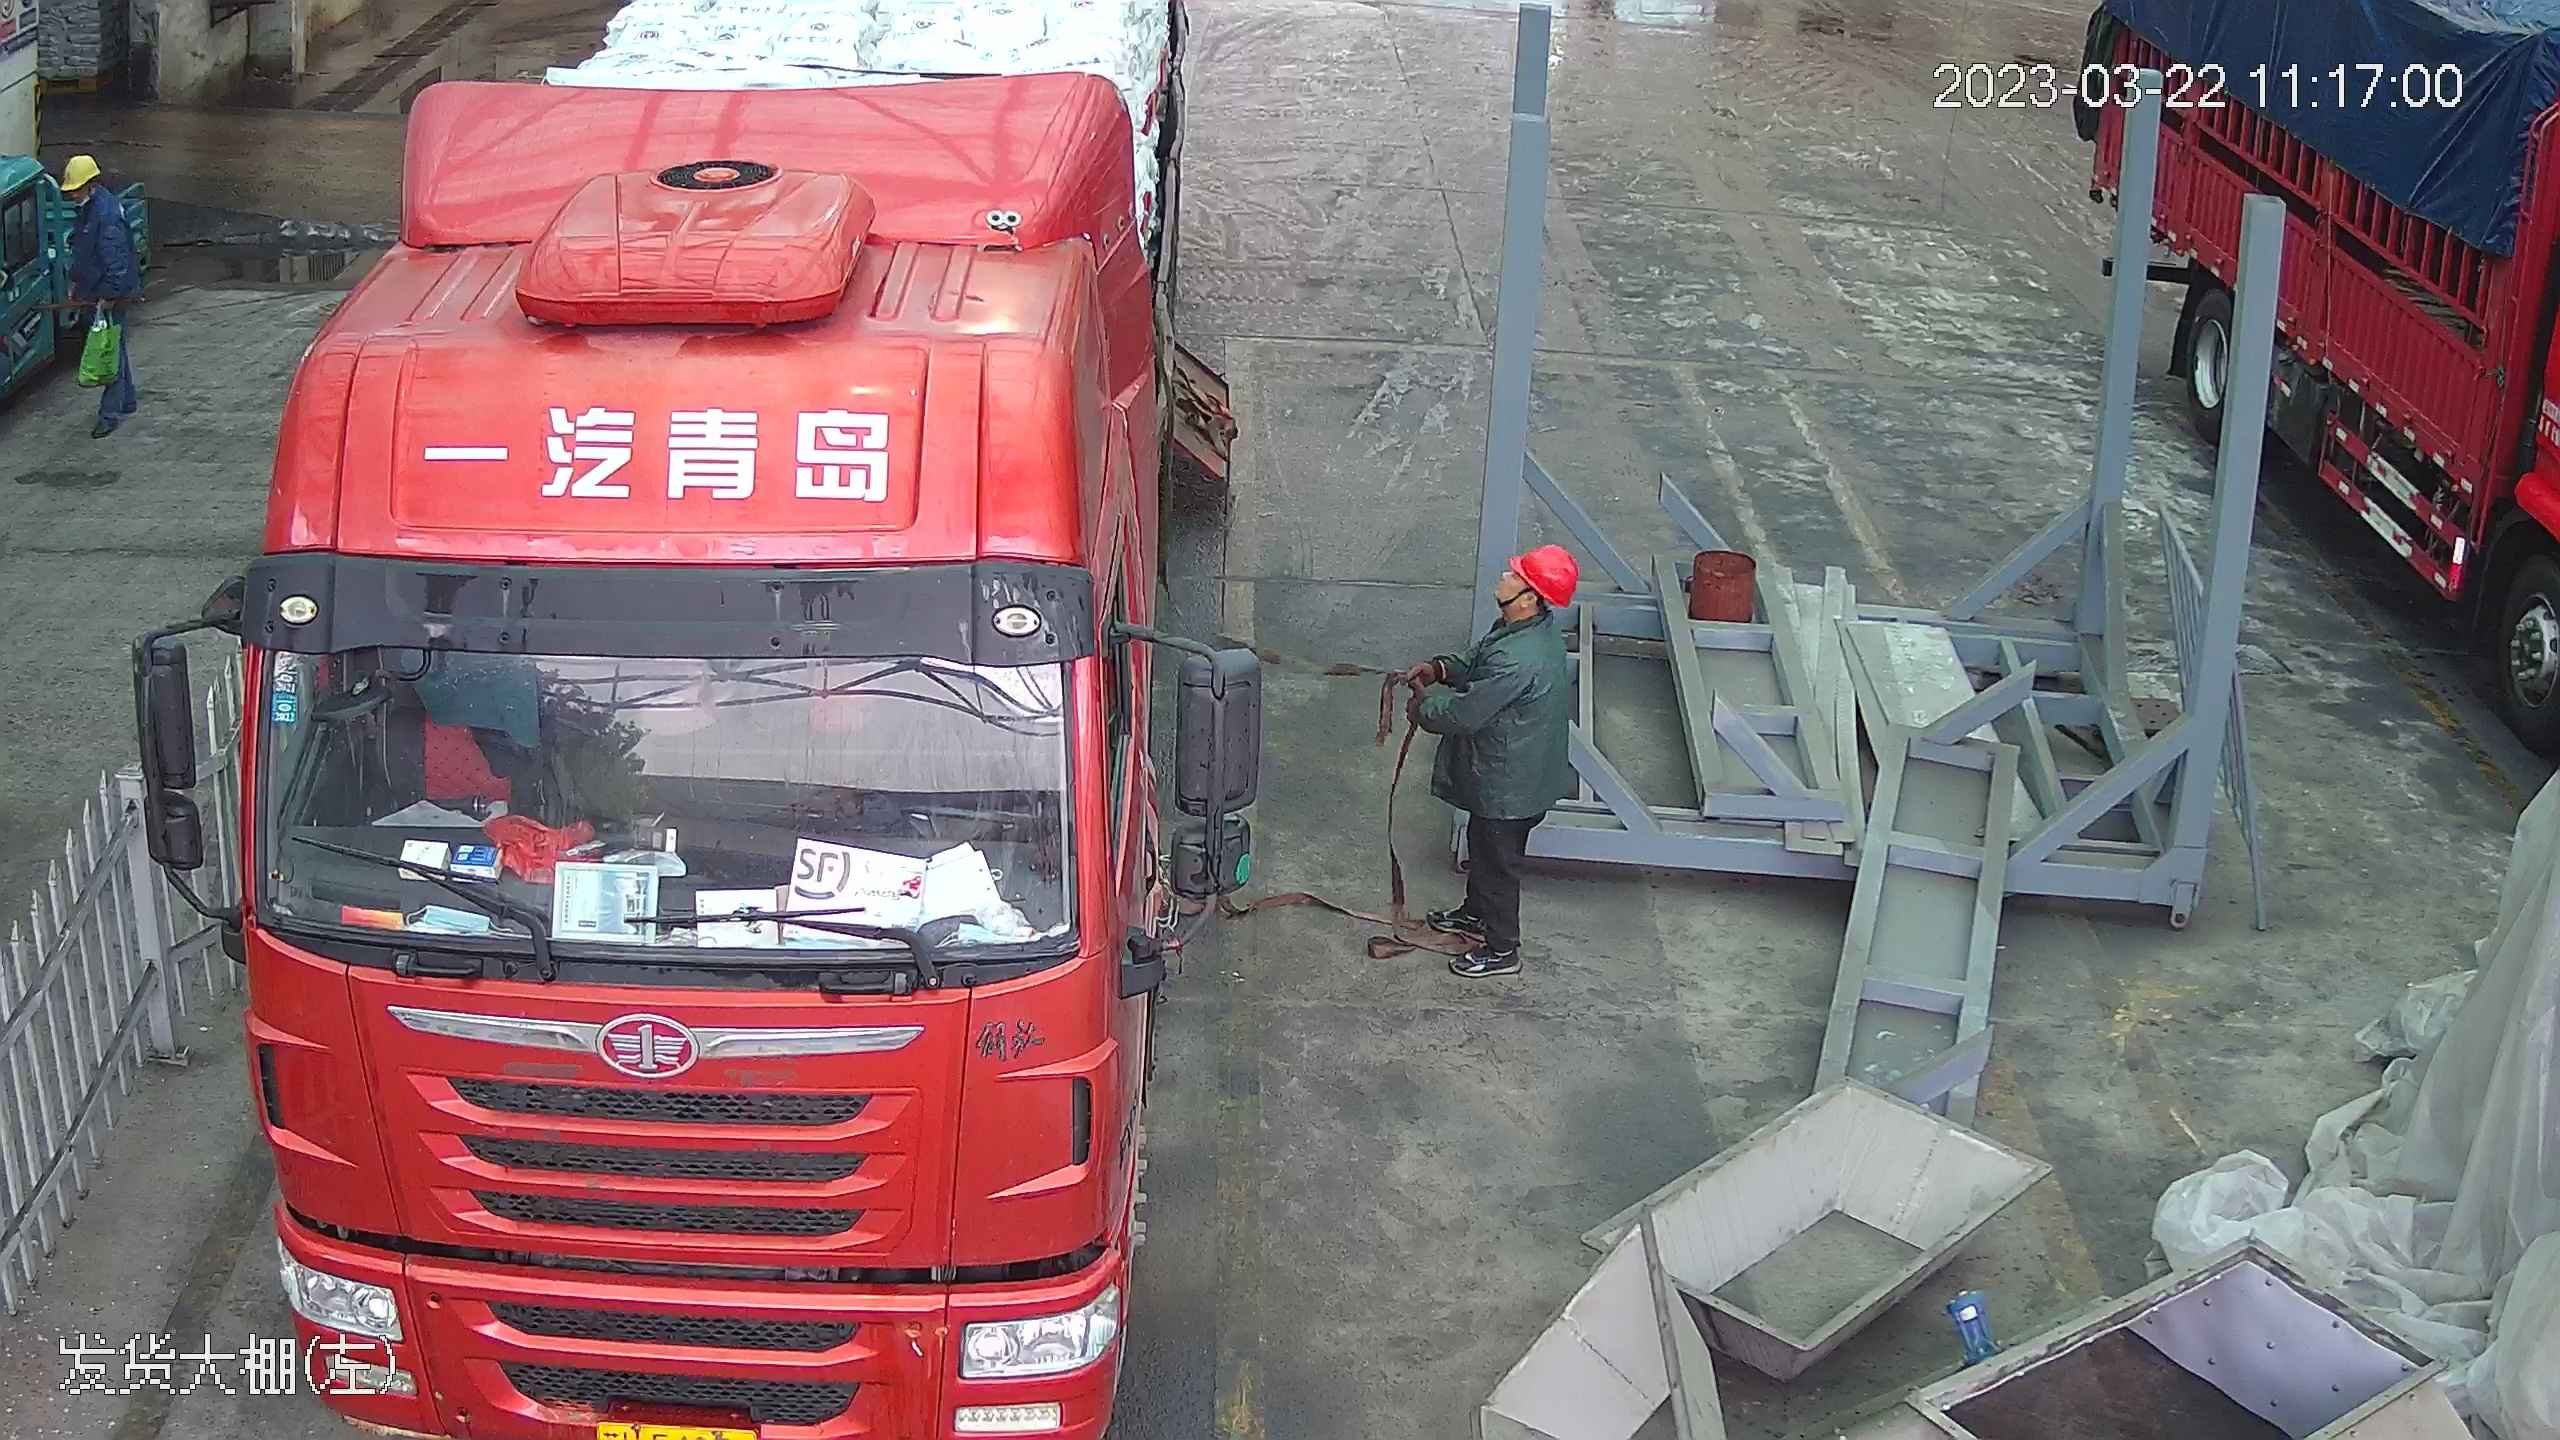head: (1468, 542, 1583, 695), (59, 151, 131, 240)
helmet: (1504, 542, 1578, 606), (59, 152, 102, 192)
people: (1411, 541, 1585, 984), (57, 150, 146, 439)
truck: (180, 1, 1266, 1440), (2082, 1, 2557, 772)
